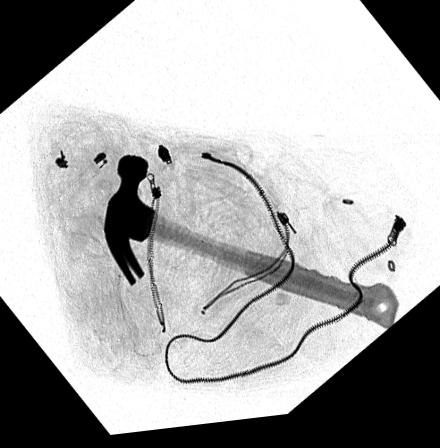Hammer: (104, 156, 398, 337)
